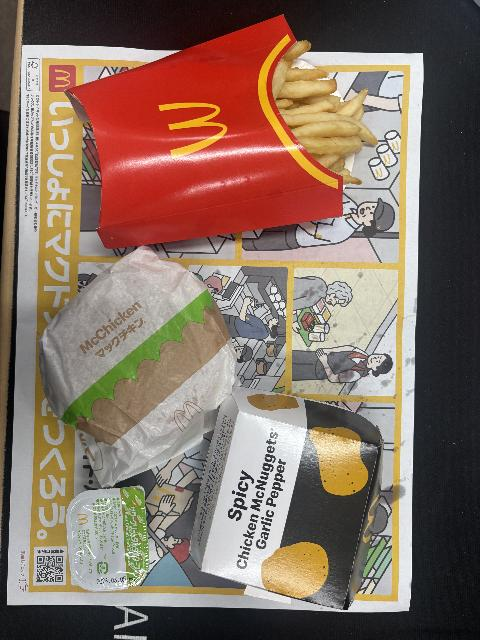burger: (38, 244, 240, 488)
fries: (64, 13, 378, 249)
nuggets: (189, 385, 384, 610)
sauce: (67, 486, 150, 592)
